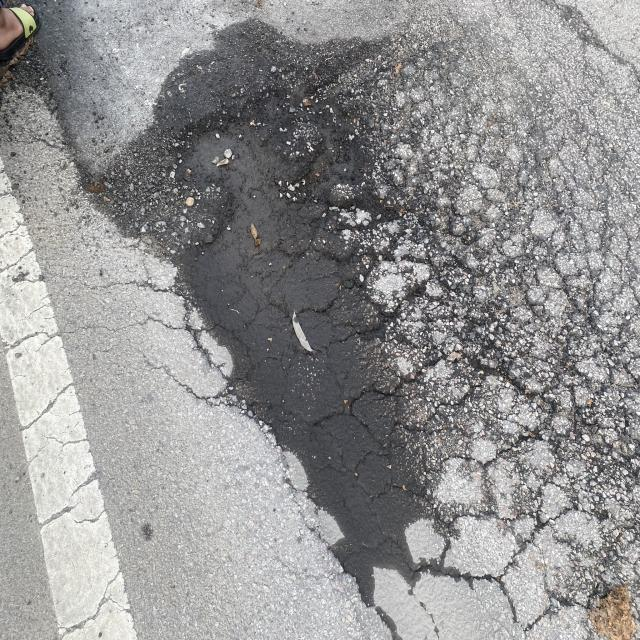Pothole: (128, 67, 374, 416)
